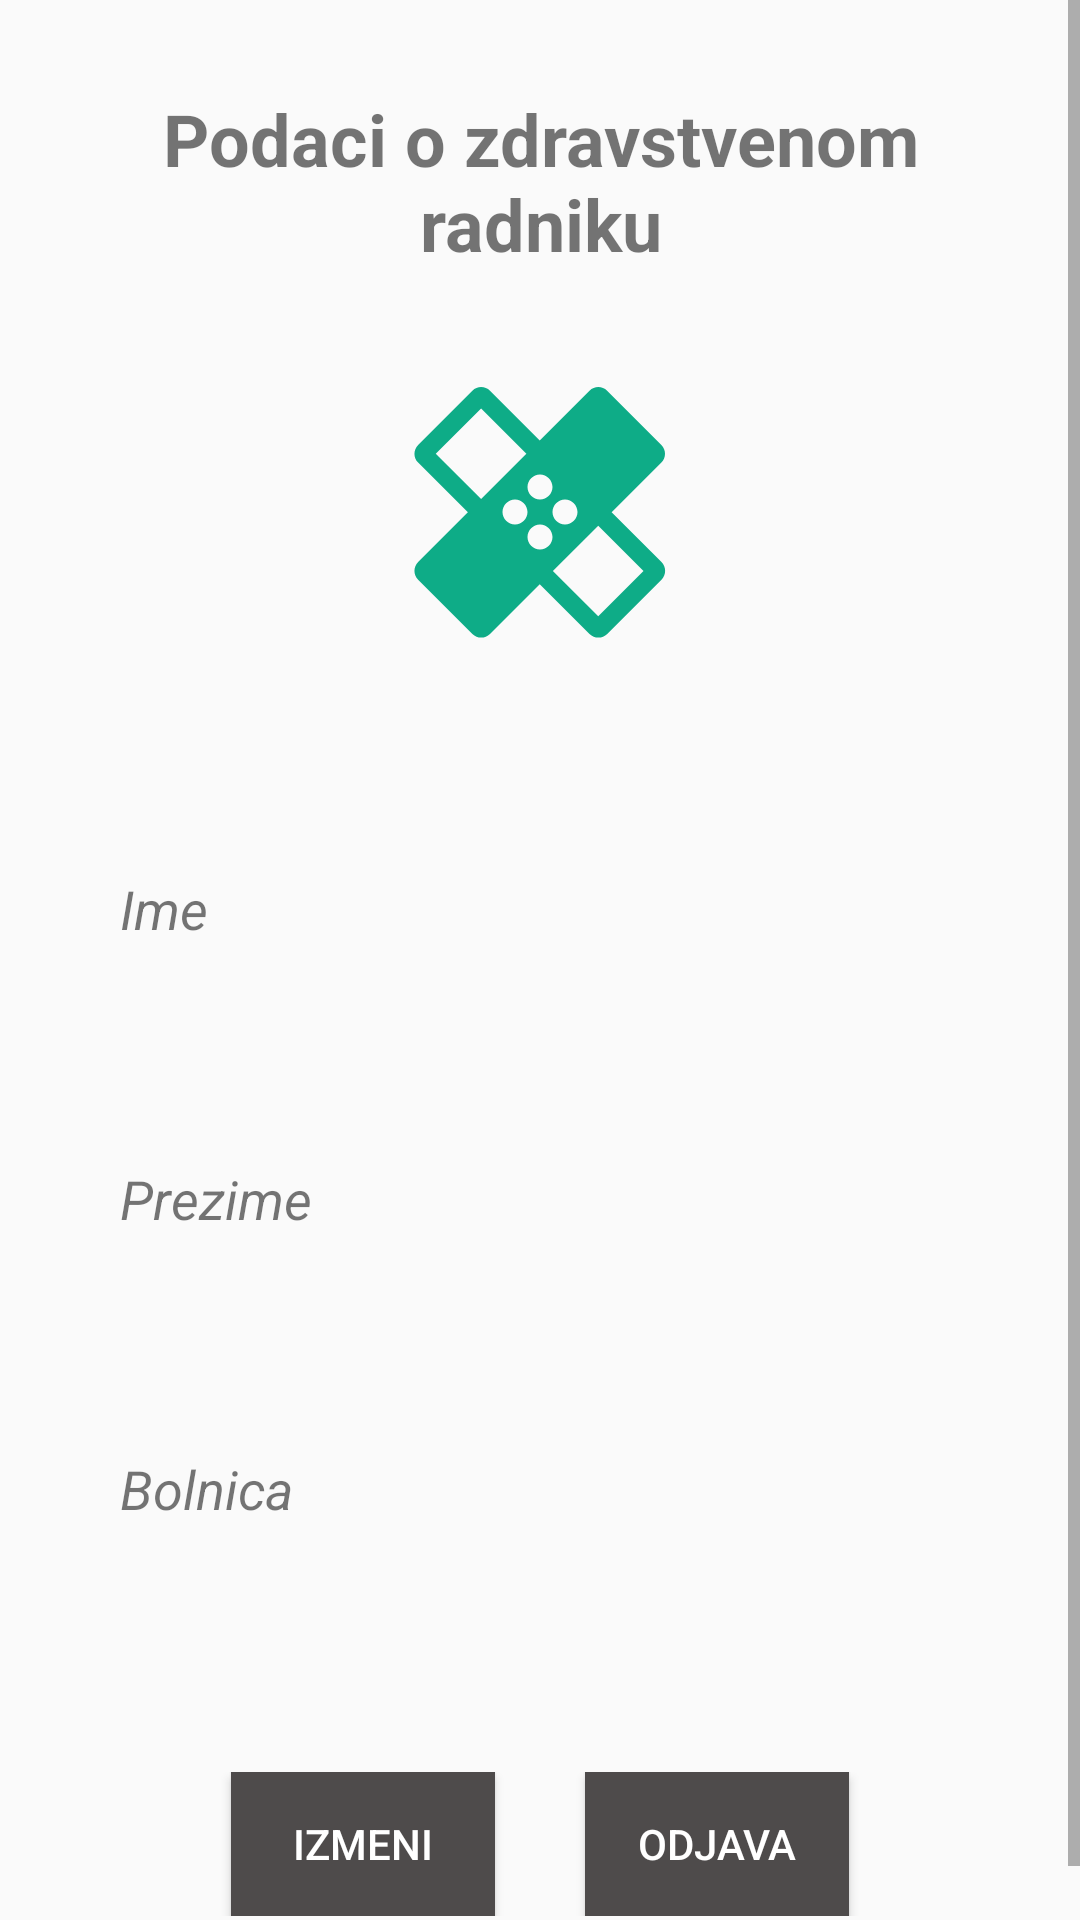

Named icons in this screenshot (1080px x 1920px) and their bounding boxes, {"left": x1, "top": y1, "right": x2, "bottom": y2}:
healing: {"left": 414, "top": 387, "right": 665, "bottom": 638}
